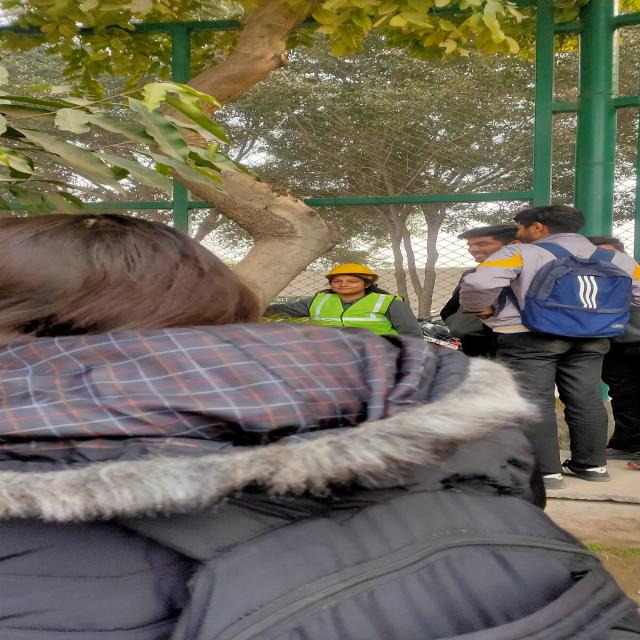safe: (307, 264, 418, 338)
unsafe: (1, 208, 640, 640), (474, 205, 628, 483)
